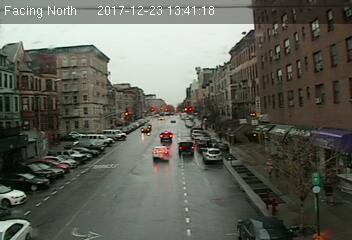car: (200, 147, 222, 163), (176, 138, 195, 155), (150, 146, 170, 162), (159, 131, 173, 142)
